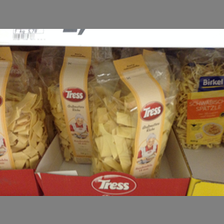pasta: (91, 53, 178, 175), (41, 47, 104, 163), (1, 47, 40, 170), (178, 49, 223, 150)
